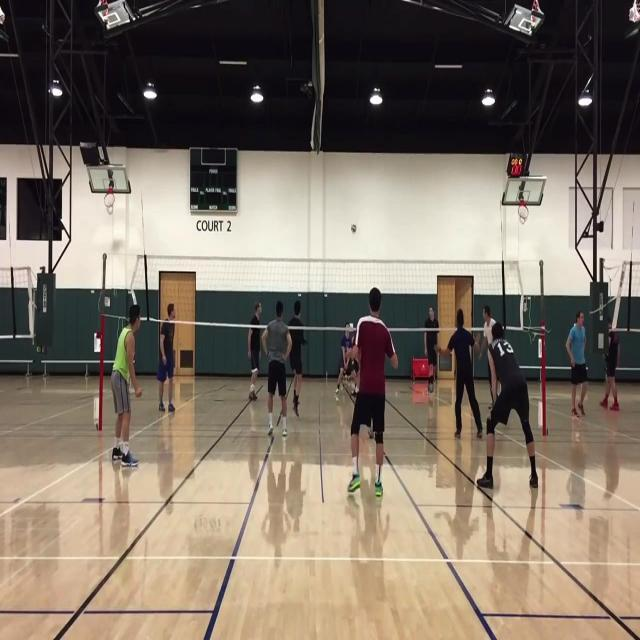volleyball: (350, 225, 357, 232)
